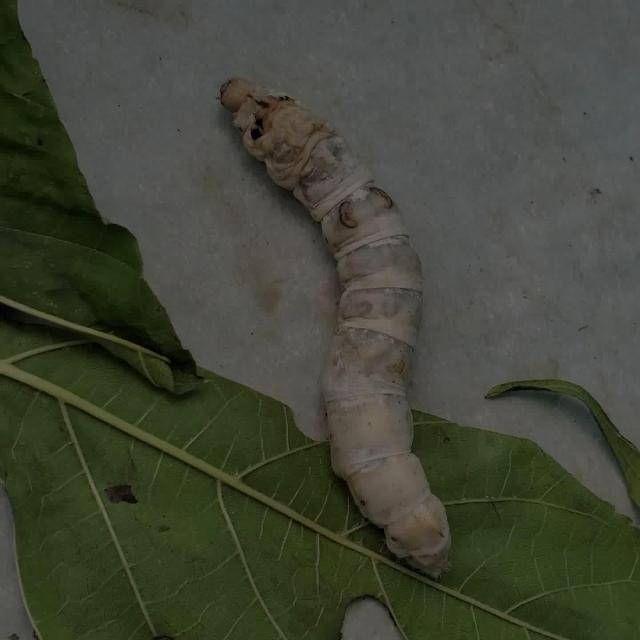Grasserie: (201, 41, 524, 600)
